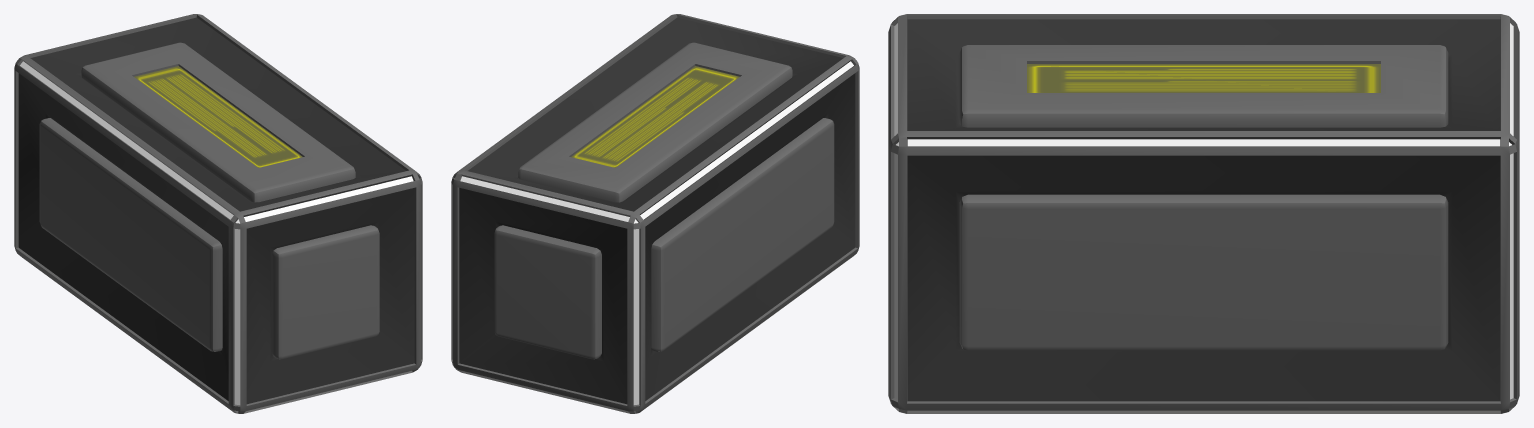
The model's file is Rounded_Crate_2x4.fbx.
3 views of the same model, side by side, from view 1: azimuth 30°, elevation 25°; view 2: azimuth 150°, elevation 25°; view 3: azimuth 270°, elevation 25° (orthographic). The views are drawn at different scales.
Visible parts, largest first — view 1: Rounded_Crate_2x4; view 2: Rounded_Crate_2x4; view 3: Rounded_Crate_2x4.
Boxes of the visible parts, left/top/right/bottom form: Rounded_Crate_2x4: left=14, top=14, right=422, bottom=413; Rounded_Crate_2x4: left=451, top=14, right=859, bottom=413; Rounded_Crate_2x4: left=888, top=14, right=1519, bottom=413.
Size of the model in its own units: 195 by 195 by 396.
